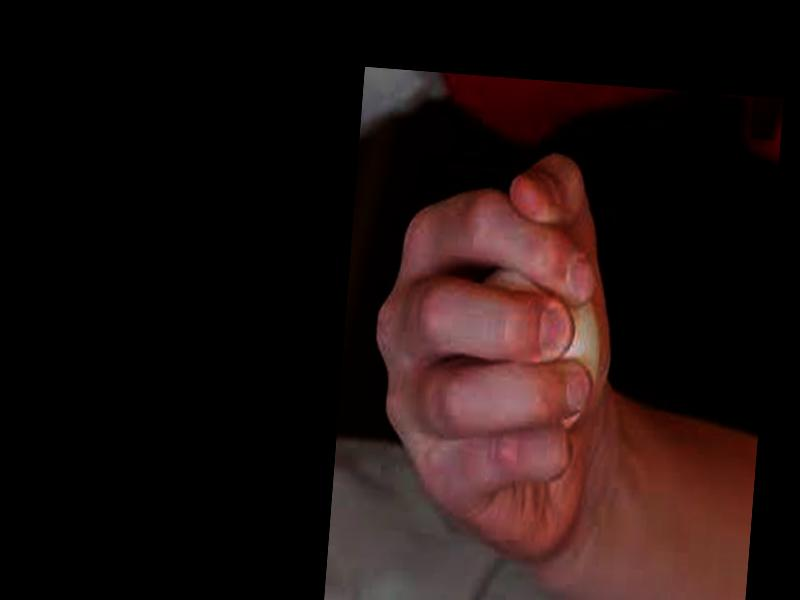Eggs: (470, 247, 608, 431)
